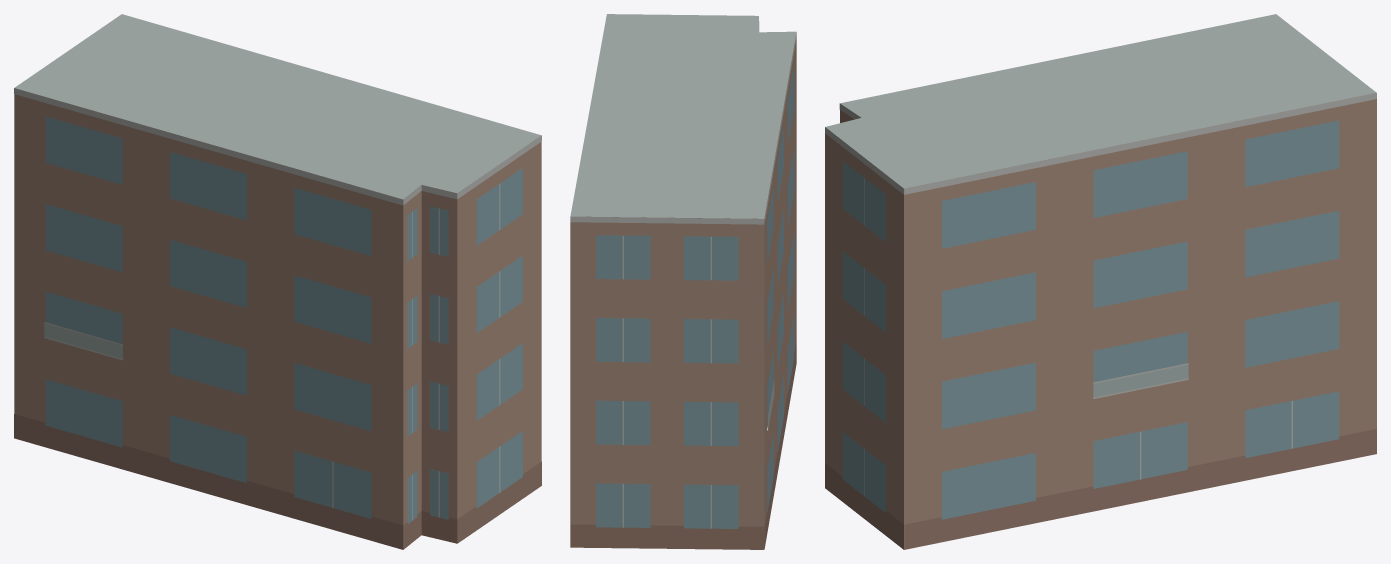
File: survey-upis-32681059.glb
The picture shows the model from 3 angles, left to right: view 1: azimuth 30°, elevation 25°; view 2: azimuth 150°, elevation 25°; view 3: azimuth 270°, elevation 25°; orthographic projection. The views are drawn at different scales.
Visible parts, largest first — view 1: survey-upis-32681059.tmp; view 2: survey-upis-32681059.tmp; view 3: survey-upis-32681059.tmp.
Boxes of the visible parts, x1,y1,x2,y2 form: survey-upis-32681059.tmp: (14,14,541,549); survey-upis-32681059.tmp: (570,14,796,549); survey-upis-32681059.tmp: (825,14,1376,549).
Size of the model in its own units: 14.7 by 14.17 by 19.63.
